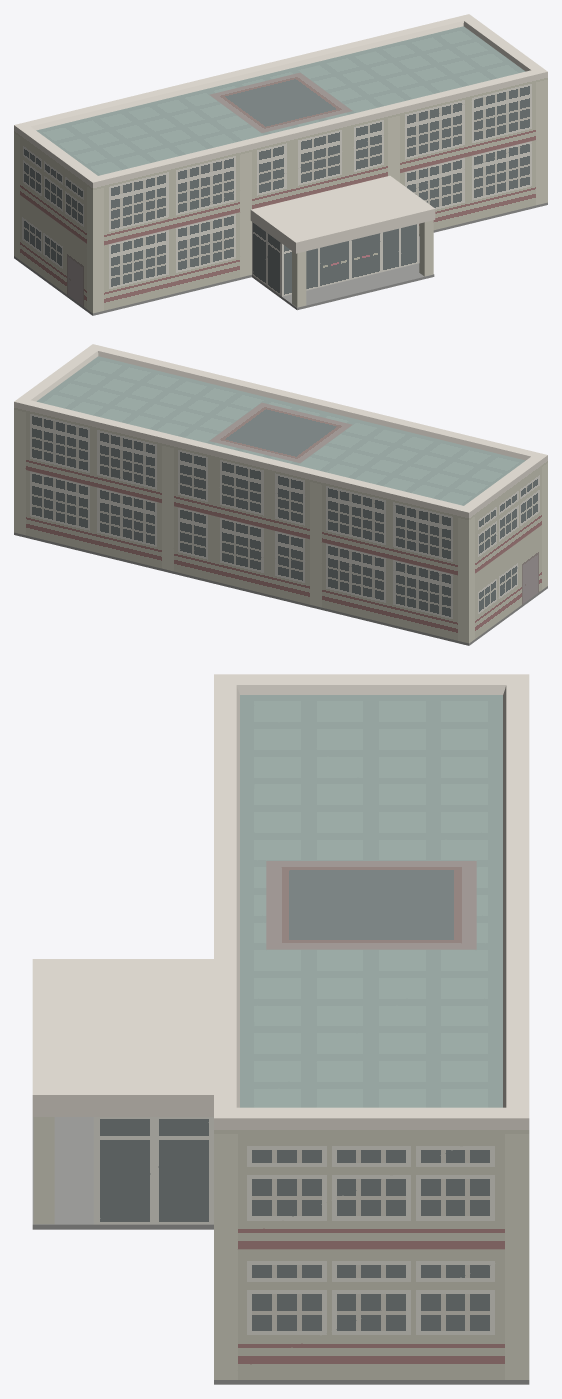
The model's file is 0264_Supermarket.glb.
The picture shows the model from 3 angles, top to bottom: view 1: azimuth 30°, elevation 25°; view 2: azimuth 150°, elevation 25°; view 3: azimuth 270°, elevation 25°; orthographic projection. The views are drawn at different scales.
Visible parts, largest first — view 1: part_0; view 2: part_0; view 3: part_0.
Boxes of the visible parts, x1,y1,x2,y2 form: part_0: (14, 14, 547, 315); part_0: (14, 344, 547, 645); part_0: (32, 674, 529, 1384).
Size of the model in its own units: 20 by 5.59 by 9.45.
1 material, 1 textured.
